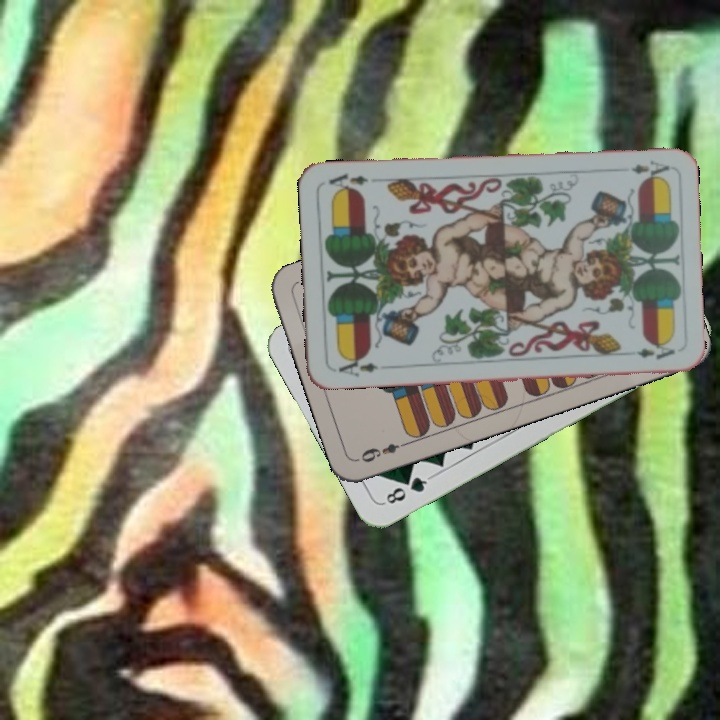E9: (356, 437, 412, 465)
EA: (613, 156, 672, 182), (334, 352, 389, 379)
G8: (379, 472, 434, 507)
